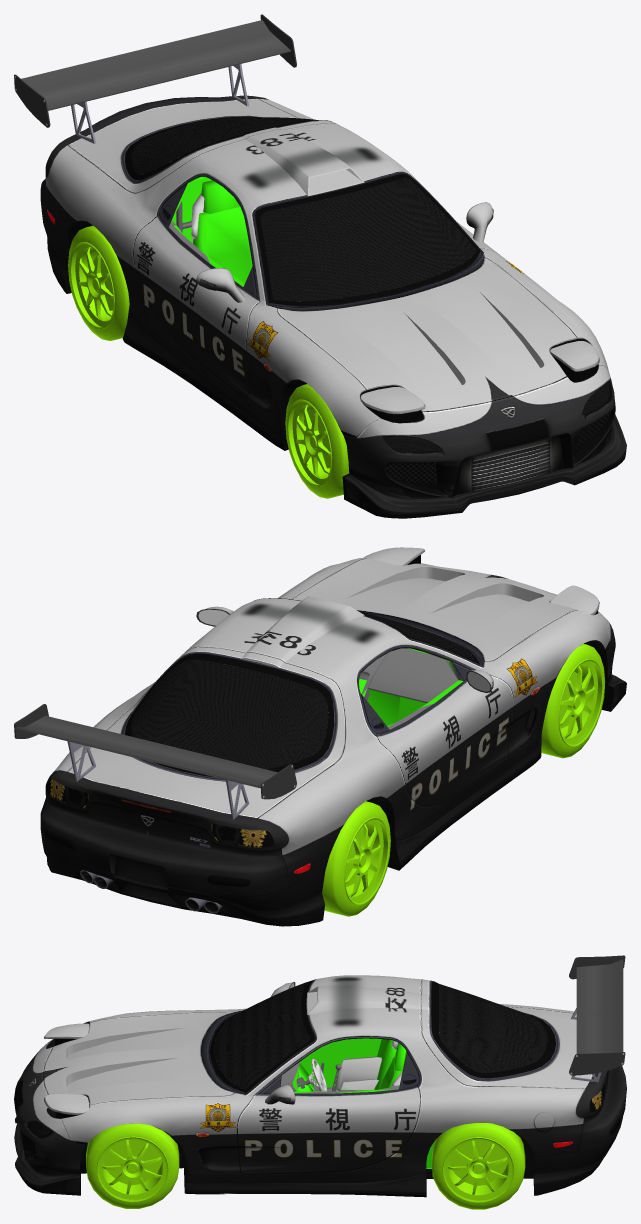
The model's file is AIMazda_RX7.fbx.
The picture shows the model from 3 angles, top to bottom: view 1: azimuth 30°, elevation 25°; view 2: azimuth 150°, elevation 25°; view 3: azimuth 270°, elevation 25°; orthographic projection. The views are drawn at different scales.
Parts seen in each view (by area): view 1: Mazda_RX7_body, Mazda_RX7_glass, Spoiler, Wheel_Rear_Right, Wheel_Front_Right, Interior_lo; view 2: Mazda_RX7_body, Mazda_RX7_glass, Spoiler, Wheel_Rear_Right, Wheel_Front_Right, Mazda_RX7_interior, Mazda_Taillights, Interior_lo; view 3: Mazda_RX7_body, Mazda_RX7_glass, Wheel_Rear_Left, Wheel_Front_Left, Spoiler, Interior_lo, Mazda_RX7_seats, Mazda_RX7_interior.
Part boxes in pixels (x1,y1,x2,y2): Mazda_RX7_body: (40, 95, 626, 518); Mazda_RX7_glass: (131, 116, 609, 452); Spoiler: (14, 14, 296, 143); Wheel_Rear_Right: (68, 225, 129, 340); Wheel_Front_Right: (285, 384, 349, 498); Interior_lo: (169, 161, 252, 286); Mazda_RX7_body: (40, 547, 626, 926); Mazda_RX7_glass: (131, 611, 476, 769); Spoiler: (14, 704, 296, 819); Wheel_Rear_Right: (322, 801, 390, 916); Wheel_Front_Right: (541, 643, 605, 758); Mazda_RX7_interior: (359, 648, 471, 729); Mazda_Taillights: (45, 778, 274, 847); Interior_lo: (359, 648, 463, 726); Mazda_RX7_body: (14, 975, 626, 1197); Mazda_RX7_glass: (27, 982, 547, 1135); Wheel_Rear_Left: (432, 1123, 525, 1209); Wheel_Front_Left: (86, 1123, 179, 1208); Spoiler: (569, 955, 625, 1082); Interior_lo: (292, 1032, 439, 1177); Mazda_RX7_seats: (336, 1041, 402, 1089); Mazda_RX7_interior: (280, 1062, 399, 1093).
Size of what is drawn, in the model's own units: 2.24 by 1.5 by 5.03.
